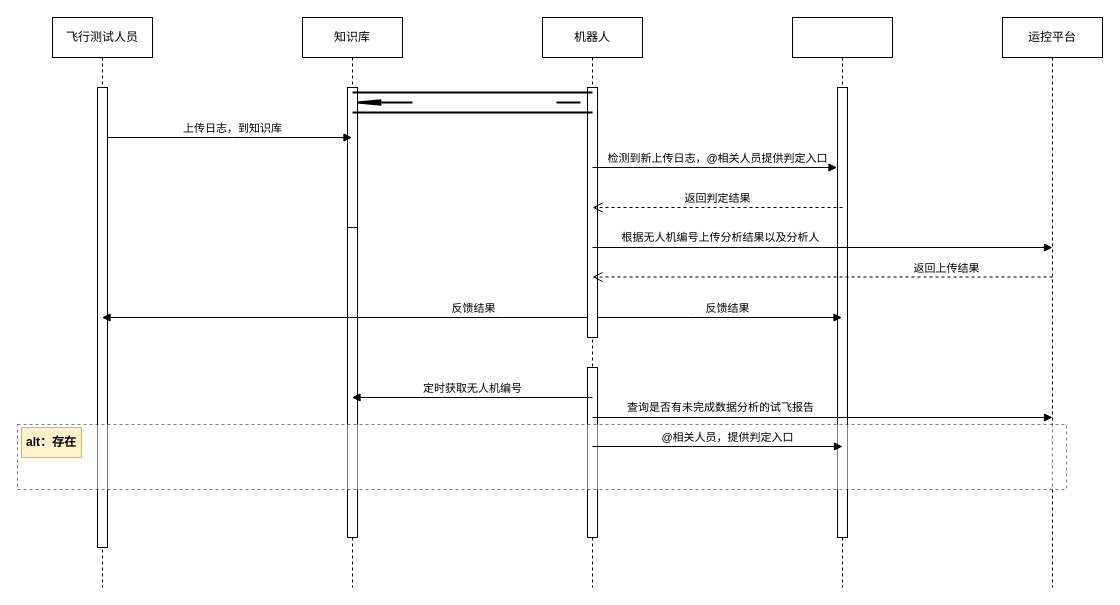
The diagram is 1120 pixels wide and 605 high, and some of its shapes have lost their labels. The box of each missing label's shape, as (x1, y1, x2, y2) in pixels:
持续监听知识库: (351, 91, 593, 113)
算法人员: (792, 16, 892, 588)
